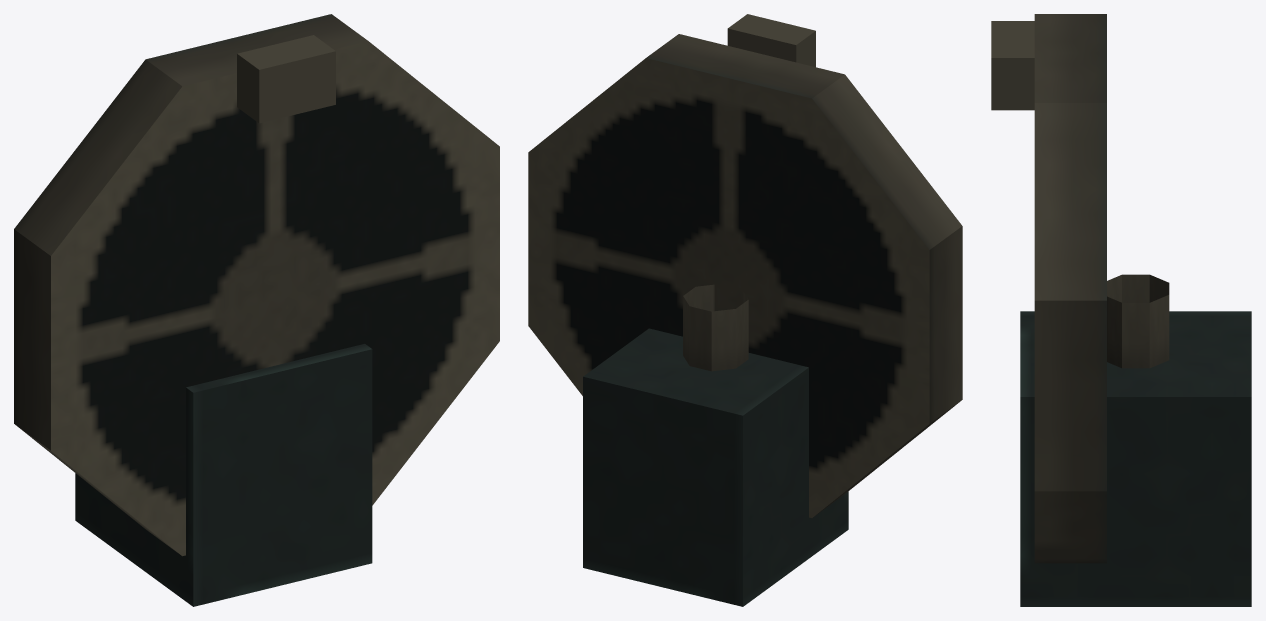
File: SM_MachProp_Valve_Wheel_40x20x40.fbx
The picture shows the model from 3 angles, left to right: view 1: azimuth 30°, elevation 25°; view 2: azimuth 150°, elevation 25°; view 3: azimuth 270°, elevation 25°; orthographic projection. The views are drawn at different scales.
Visible parts, largest first — view 1: SM_MachProp_Valve_Wheel_40x20x40.001; view 2: SM_MachProp_Valve_Wheel_40x20x40.001; view 3: SM_MachProp_Valve_Wheel_40x20x40.001.
Part boxes in pixels (x1,y1,x2,y2): SM_MachProp_Valve_Wheel_40x20x40.001: (14, 14, 499, 606); SM_MachProp_Valve_Wheel_40x20x40.001: (528, 14, 962, 606); SM_MachProp_Valve_Wheel_40x20x40.001: (991, 14, 1251, 606).
Bounding box in the file's own units: 0.3511 × 0.4 × 0.18.
